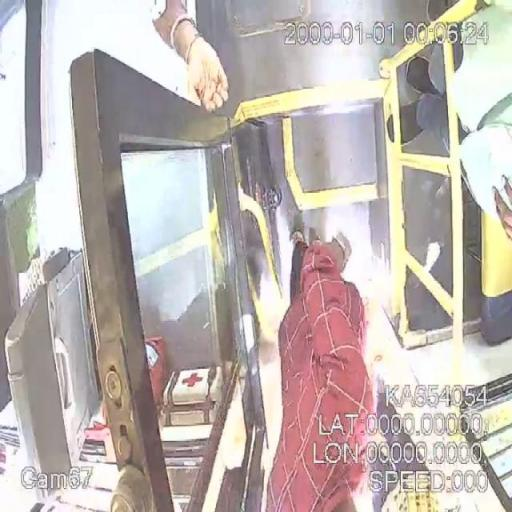persona: (265, 230, 376, 512)
